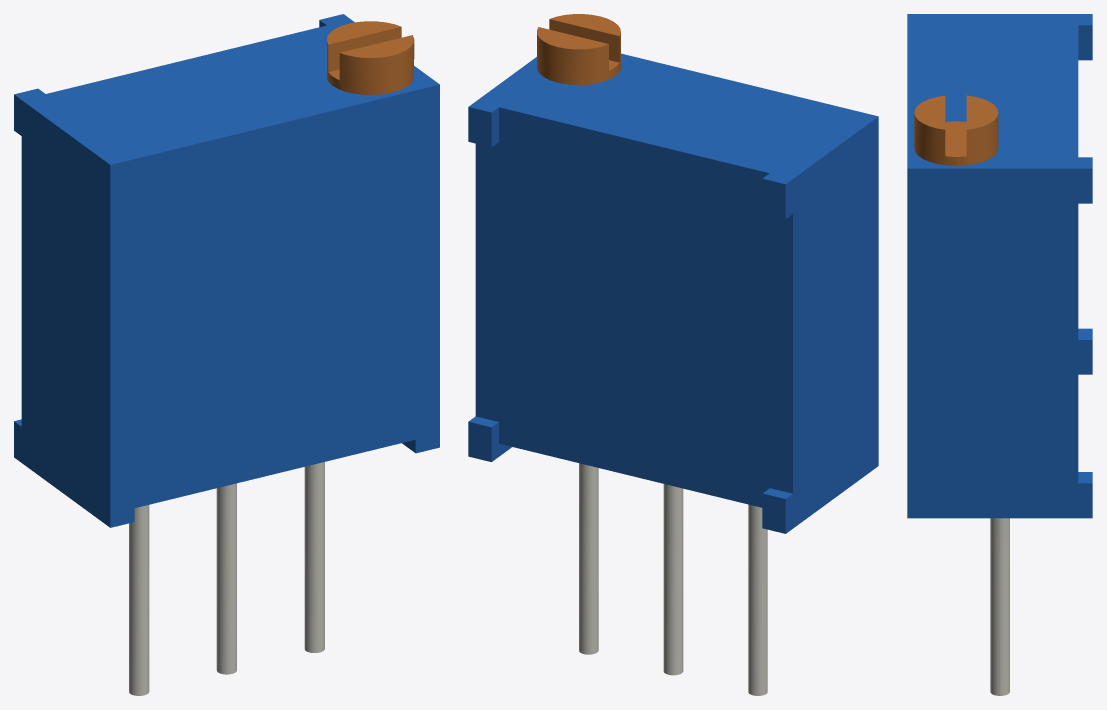
Rendered from kc-potentiometer_bourns_3296w_vertical.glb.
3 views of the same model, side by side, from view 1: azimuth 30°, elevation 25°; view 2: azimuth 150°, elevation 25°; view 3: azimuth 270°, elevation 25° (orthographic). The views are drawn at different scales.
Parts seen in each view (by area): view 1: 0_0.16666666666666666_0.5_0, 0.6666666666666666_0.6666666666666666_0.5833333333333334_0.8, 0.5_0.16666666666666666_0_0; view 2: 0_0.16666666666666666_0.5_0, 0.6666666666666666_0.6666666666666666_0.5833333333333334_0.8, 0.5_0.16666666666666666_0_0; view 3: 0_0.16666666666666666_0.5_0, 0.5_0.16666666666666666_0_0, 0.6666666666666666_0.6666666666666666_0.5833333333333334_0.8.
Boxes of the visible parts, left/top/right/bottom form: 0_0.16666666666666666_0.5_0: left=14, top=14, right=439, bottom=527; 0.6666666666666666_0.6666666666666666_0.5833333333333334_0.8: left=129, top=462, right=324, bottom=695; 0.5_0.16666666666666666_0_0: left=327, top=21, right=414, bottom=94; 0_0.16666666666666666_0.5_0: left=468, top=53, right=878, bottom=533; 0.6666666666666666_0.6666666666666666_0.5833333333333334_0.8: left=579, top=463, right=767, bottom=695; 0.5_0.16666666666666666_0_0: left=537, top=14, right=620, bottom=84; 0_0.16666666666666666_0.5_0: left=907, top=14, right=1092, bottom=518; 0.5_0.16666666666666666_0_0: left=914, top=95, right=998, bottom=165; 0.6666666666666666_0.6666666666666666_0.5833333333333334_0.8: left=990, top=518, right=1009, bottom=695.
Bounding box in the file's own units: 0.953 × 1.71 × 0.4829.
